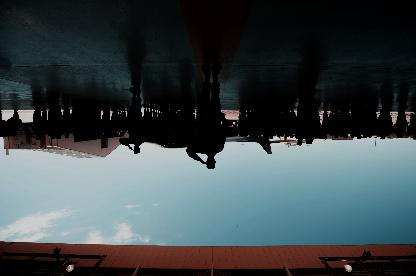AV8B: (144, 122, 294, 154)
